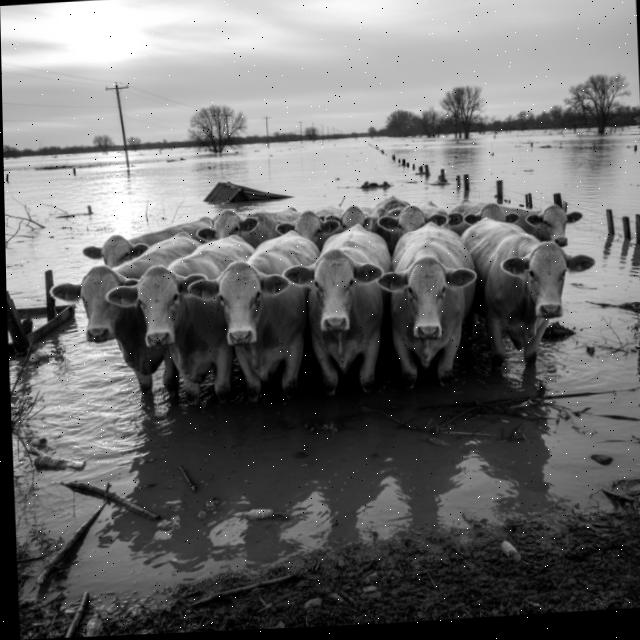cow: (53, 230, 224, 410), (111, 230, 268, 422), (451, 206, 604, 379), (205, 224, 328, 409), (280, 216, 396, 394), (373, 224, 482, 395), (468, 184, 588, 262), (81, 214, 227, 267), (190, 200, 302, 263), (363, 178, 448, 253), (423, 191, 523, 249), (275, 200, 340, 257), (322, 189, 383, 246)
